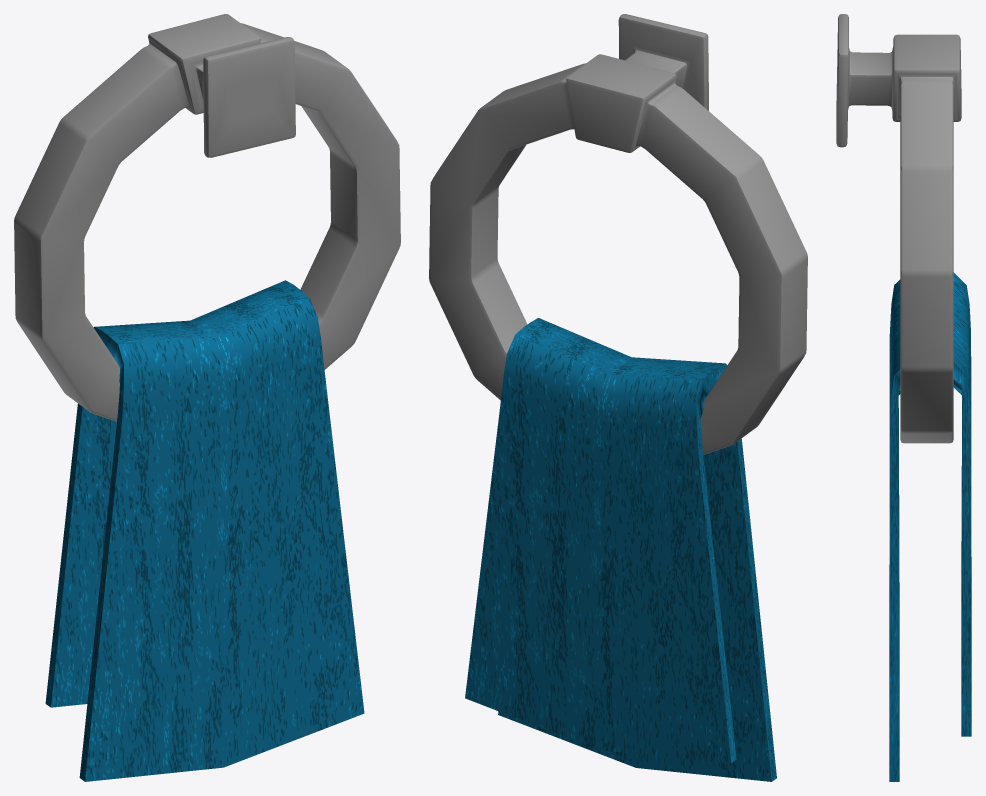
File: Hand_Towel.fbx
3 views of the same model, side by side, from view 1: azimuth 30°, elevation 25°; view 2: azimuth 150°, elevation 25°; view 3: azimuth 270°, elevation 25° (orthographic). The views are drawn at different scales.
Parts seen in each view (by area): view 1: Hand_Towel, HandTowelRack; view 2: Hand_Towel, HandTowelRack; view 3: HandTowelRack, Hand_Towel.
Part boxes in pixels (x1,y1,x2,y2): Hand_Towel: (45, 280, 364, 781); HandTowelRack: (14, 14, 400, 421); Hand_Towel: (465, 318, 776, 781); HandTowelRack: (429, 14, 807, 454); HandTowelRack: (836, 14, 961, 443); Hand_Towel: (889, 272, 971, 781).
Bounding box in the file's own units: 25.94 × 50.53 × 8.81.
2 materials, 1 textured.
